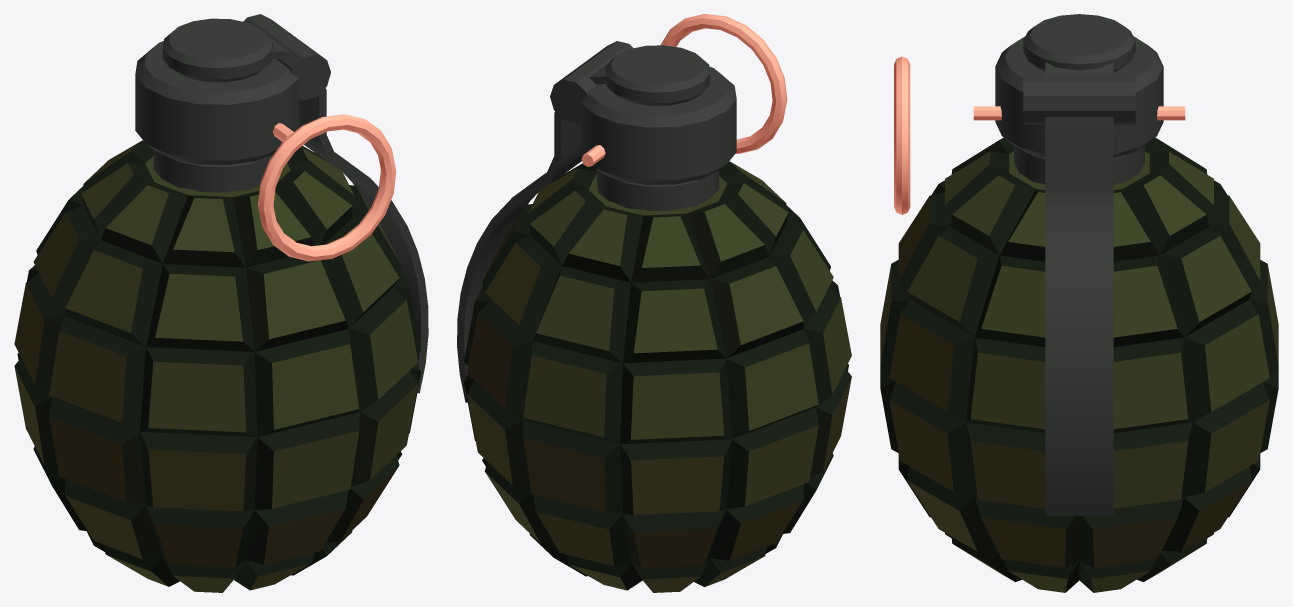
Rendered from frag.glb.
3 renders of one model, left to right at view 1: azimuth 30°, elevation 25°; view 2: azimuth 150°, elevation 25°; view 3: azimuth 270°, elevation 25°, orthographic. The views are drawn at different scales.
Parts seen in each view (by area): view 1: Frag; view 2: Frag; view 3: Frag.
Boxes of the visible parts, x1,y1,x2,y2 form: Frag: (14,14,428,592); Frag: (457,14,851,592); Frag: (880,14,1278,592).
Bounding box in the file's own units: 0.0692 × 0.094 × 0.064.
